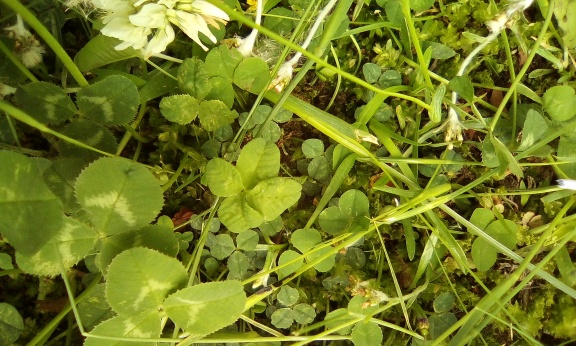4leaf: (205, 136, 304, 234)
